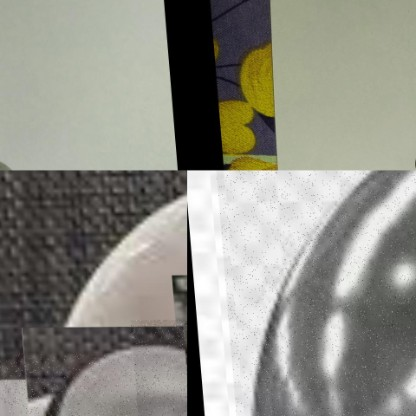ironball: (206, 170, 415, 415), (0, 352, 187, 415), (126, 319, 187, 415)
